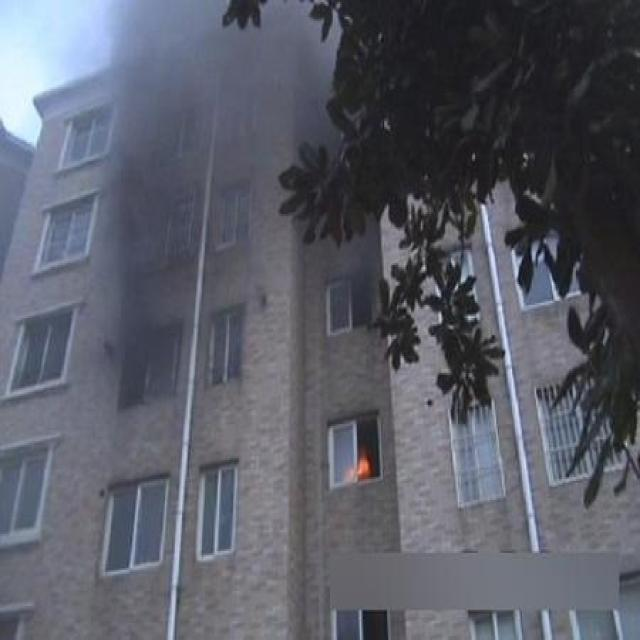Fire: (342, 449, 369, 483)
Smoke: (98, 2, 341, 377)
